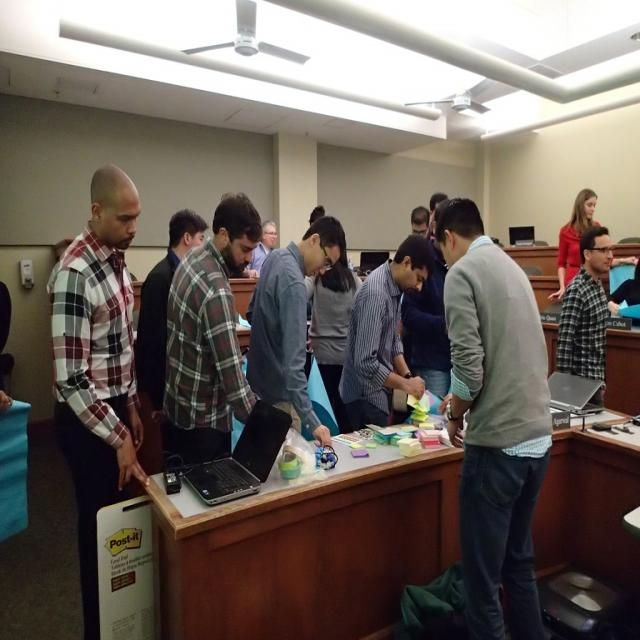desk: (136, 418, 640, 640)
laptop: (180, 400, 292, 506), (548, 371, 604, 412)
person: (433, 198, 554, 640), (50, 166, 150, 640), (160, 192, 264, 466), (245, 218, 343, 452), (338, 236, 436, 432), (136, 208, 207, 430), (554, 228, 629, 392), (306, 217, 361, 432), (398, 212, 451, 402), (551, 189, 600, 302), (246, 219, 278, 277)
